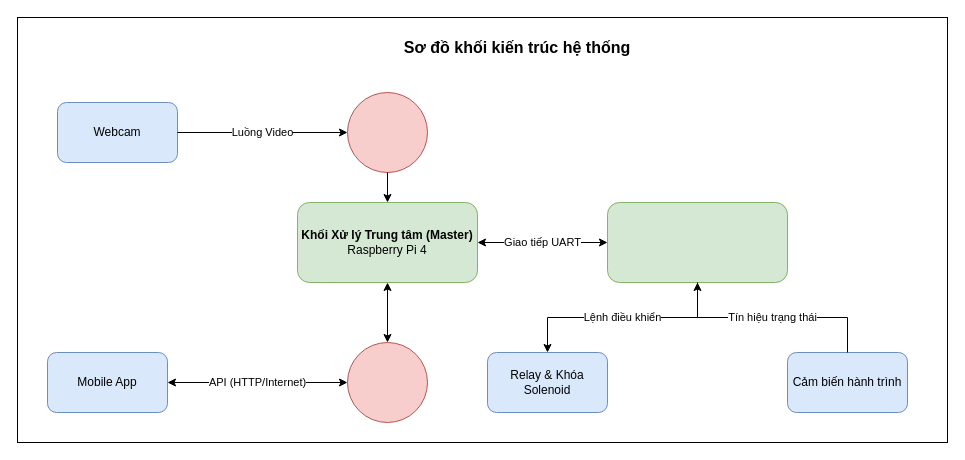
The diagram is 965 pixels wide and 460 high, and some of its shapes have lost their labels. Here are the shapes that lost their labels. From the top down, the box of each, then its label:
(346, 92, 428, 172): AI FaceID
(606, 202, 788, 282): Khối Điều khiển Ngoại vi (Slave) ESP32
(346, 342, 428, 422): Web Server & Logic
